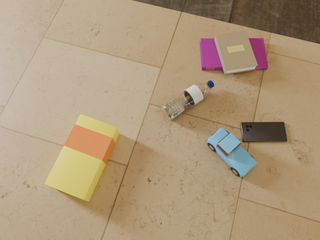book: (200, 38, 268, 70), (214, 31, 258, 74)
bottle: (162, 80, 214, 120)
box: (45, 114, 119, 201)
phone: (241, 122, 287, 142)
toy_car: (207, 128, 257, 177)
